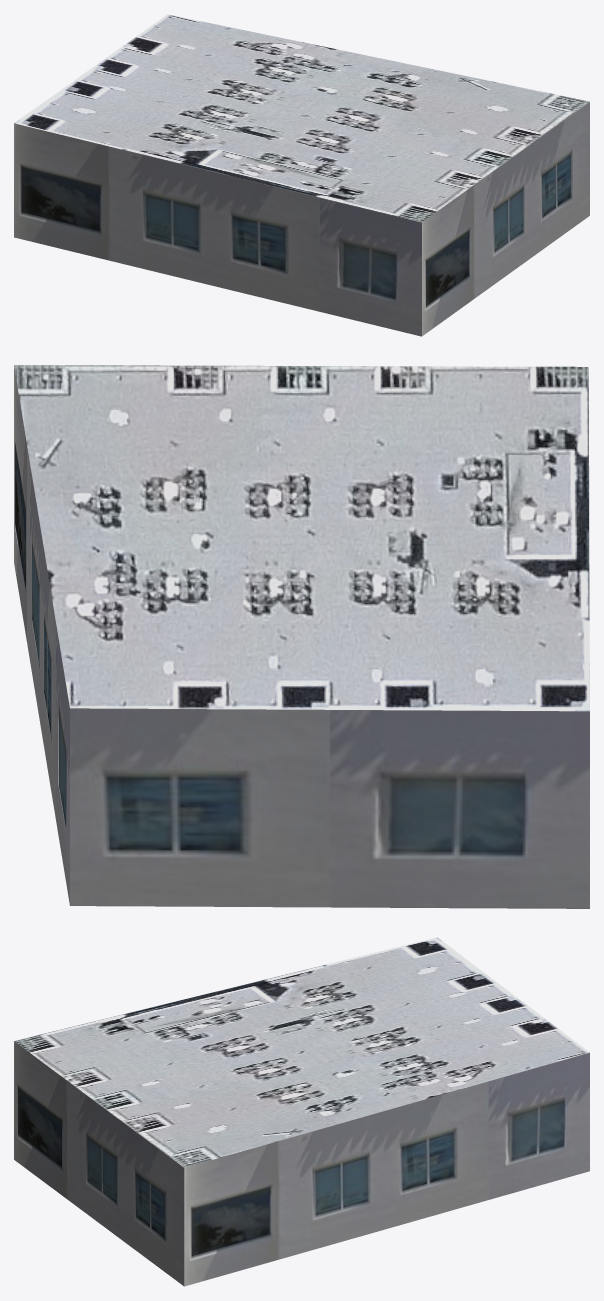
The model's file is ResTex__1548.fbx.
3 renders of one model, top to bottom at view 1: azimuth 30°, elevation 25°; view 2: azimuth 150°, elevation 25°; view 3: azimuth 270°, elevation 25°, orthographic. The views are drawn at different scales.
Visible parts, largest first — view 1: CityEngineMaterial_10_m, CityEngineMaterial_8_m; view 2: CityEngineMaterial_8_m, CityEngineMaterial_10_m; view 3: CityEngineMaterial_10_m, CityEngineMaterial_8_m.
Boxes of the visible parts, bbox=[...] form: CityEngineMaterial_10_m: bbox=[14, 102, 589, 336]; CityEngineMaterial_8_m: bbox=[14, 14, 589, 222]; CityEngineMaterial_8_m: bbox=[14, 365, 589, 711]; CityEngineMaterial_10_m: bbox=[14, 366, 589, 908]; CityEngineMaterial_10_m: bbox=[14, 1041, 589, 1286]; CityEngineMaterial_8_m: bbox=[14, 937, 589, 1167].
Size of the model in its own units: 12.5 by 3 by 13.2.
Materials: 2 (2 with a texture image).
